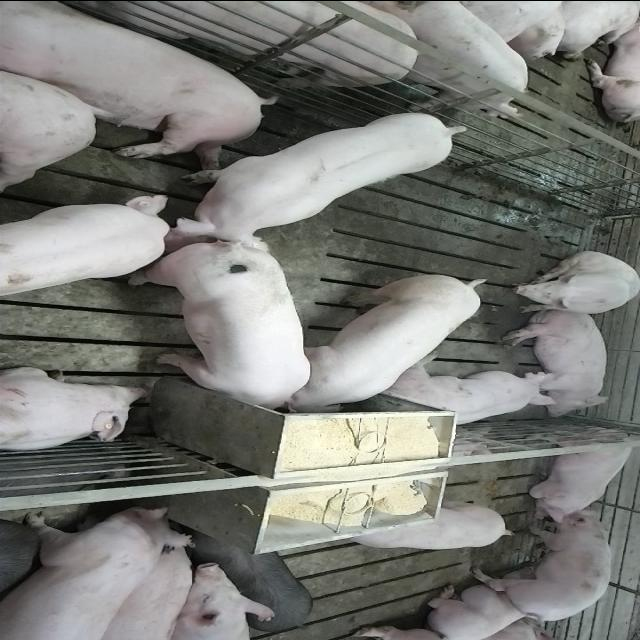Feeding: (127, 248, 311, 420), (284, 268, 496, 411)
Lateral_lying: (500, 307, 612, 417)
Sitting: (518, 422, 640, 520), (502, 250, 638, 314)
Standing: (166, 110, 477, 252), (54, 0, 424, 89), (0, 503, 191, 638), (376, 0, 535, 113), (0, 196, 171, 299), (476, 509, 616, 622), (189, 530, 316, 634), (88, 536, 202, 636), (344, 504, 518, 554), (168, 564, 276, 640)
Sternal_lying: (0, 365, 151, 453), (378, 364, 558, 428), (428, 562, 556, 638)
